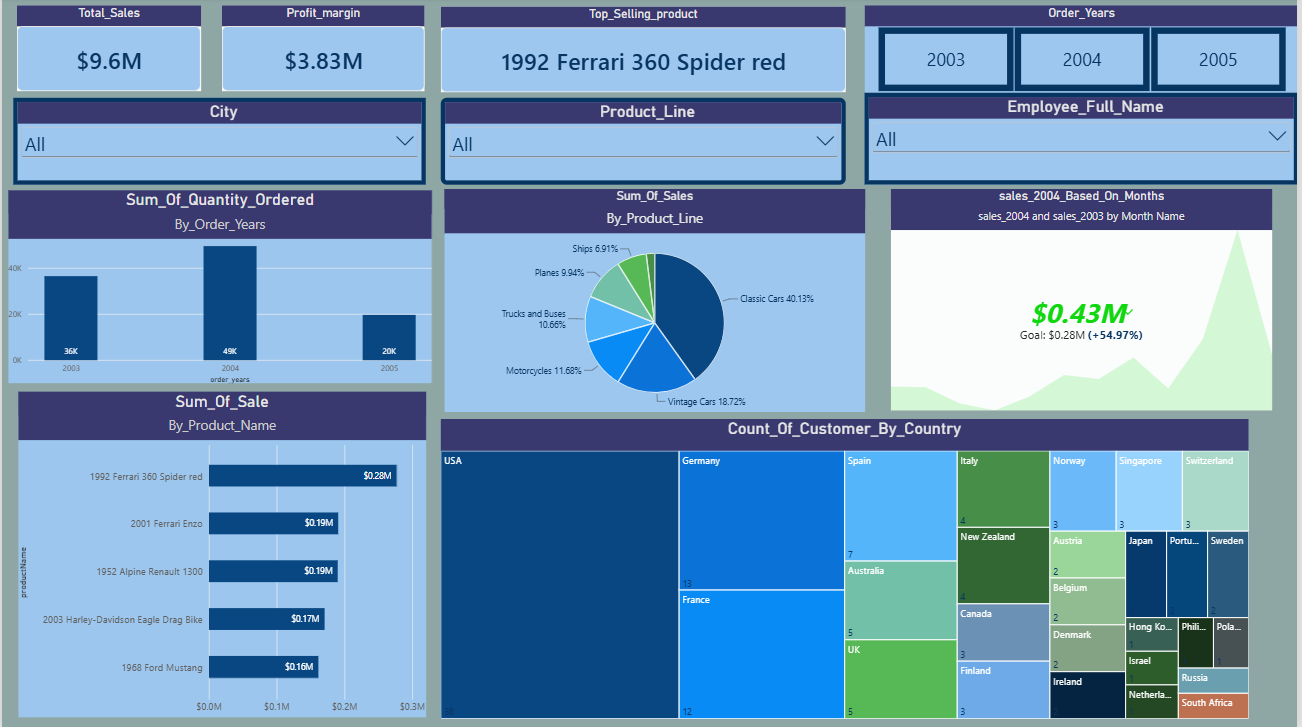

Layout of this report page (visuals, bound fields, positions):
{"tool":"powerbi","page":{"name":"Page 1","canvas":[1920,1080],"ordinal":0},"visuals":[{"type":"cardVisual","title":"Profit_margin","fields":{"Data":["Measures (2).Total_Profit"]},"box":[325,9.1,300,127.3],"z":0},{"type":"barChart","title":"Sum_Of_Sale","fields":{"Category":["products.productName"],"Y":["Sum(order details.sale)"]},"box":[23.5,582.4,603.7,482.1],"z":1000},{"type":"pieChart","title":"Sum_Of_Sales","fields":{"Category":["product line.productLine"],"Y":["Sum(order details.sale)"]},"box":[654.9,281.6,622.9,330.7],"z":2000},{"type":"slicer","title":"Order_Years","fields":{"Values":["orders.order_years"]},"box":[1277.3,9.1,643.2,129.5],"z":3000},{"type":"kpi","title":"sales_2004_Based_On_Months","fields":{"Goal":["Measures (2).sales_2003"],"Indicator":["Measures (2).sales_2004"],"TrendLine":["orders.Month Name"]},"box":[1316,281.6,565,327.6],"z":4000},{"type":"cardVisual","title":"Total_Sales","fields":{"Data":["Sum(order details.sale)"]},"box":[22.7,9.1,272.7,127.3],"z":5000},{"type":"cardVisual","title":"Top_Selling_product","fields":{"Data":["Measures (2).Most_Total_Ordered"]},"box":[650,11.4,600,127.3],"z":6000},{"type":"treemap","title":"Count_Of_Customer_By_Country","fields":{"Group":["customers.country"],"Values":["CountNonNull(customers.customerName)"]},"box":[650.7,622.9,1196.8,443.7],"z":7000},{"type":"slicer","title":"City","fields":{"Values":["employee.city"]},"box":[16.6,145.4,611,128.8],"z":7001},{"type":"slicer","title":"Employee_Full_Name","fields":{"Values":["employee.empfullname"]},"box":[1277.3,138,642.3,136.2],"z":7002},{"type":"columnChart","title":"Sum_Of_Quantity_Ordered","fields":{"Category":["orders.order_years"],"Y":["Sum(order details.quantityOrdered)"]},"box":[8.5,283.7,627.2,285.9],"z":7003},{"type":"slicer","title":"Product_Line","fields":{"Values":["product line.productLine"]},"box":[649.7,145.4,600,128.8],"z":7004}]}

Visuals, with their boxes in screenshot pixels (x1, y1, x2, y2), scaled from the page's 1920x1080 canvas onto the 1302x727 screenshot:
"Profit_margin" cardVisual: 220/6/424/92
"Sum_Of_Sale" barChart: 16/392/425/717
"Sum_Of_Sales" pieChart: 444/190/867/412
"Order_Years" slicer: 866/6/1301/93
"sales_2004_Based_On_Months" kpi: 892/190/1276/410
"Total_Sales" cardVisual: 15/6/200/92
"Top_Selling_product" cardVisual: 441/8/848/93
"Count_Of_Customer_By_Country" treemap: 441/419/1253/718
"City" slicer: 11/98/426/185
"Employee_Full_Name" slicer: 866/93/1301/185
"Sum_Of_Quantity_Ordered" columnChart: 6/191/431/383
"Product_Line" slicer: 441/98/847/185
